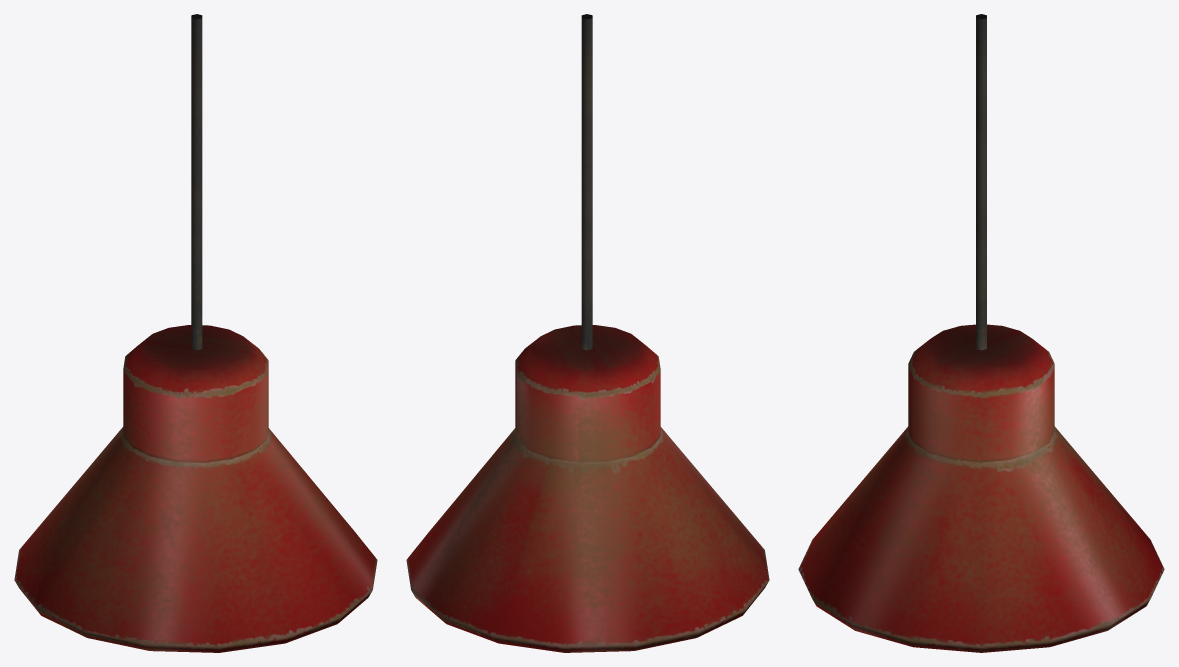
File: lamp.obj
3 views of the same model, side by side, from view 1: azimuth 30°, elevation 25°; view 2: azimuth 150°, elevation 25°; view 3: azimuth 270°, elevation 25° (orthographic).
Parts seen in each view (by area): view 1: lamp; view 2: lamp; view 3: lamp.
Part boxes in pixels (bbox=[...]): lamp: bbox=[14, 14, 377, 652]; lamp: bbox=[406, 14, 769, 652]; lamp: bbox=[798, 14, 1164, 652].
Bounding box in the file's own units: 356 × 601 × 356.
1 material, 1 textured.
